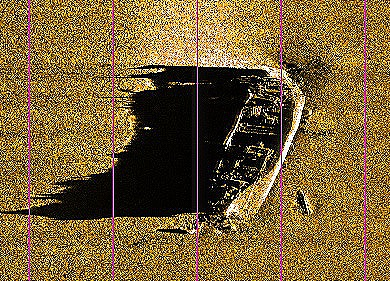ship: (210, 66, 306, 228)
